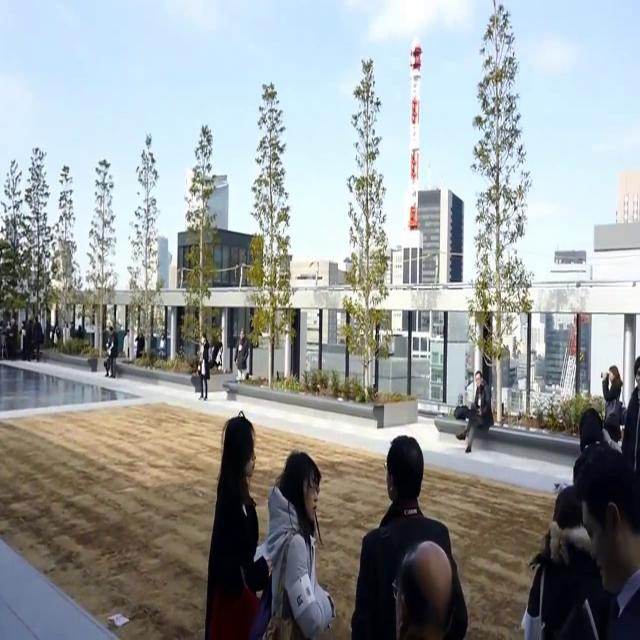body: (348, 429, 470, 639), (518, 481, 617, 639), (205, 412, 273, 639), (262, 445, 338, 639), (572, 440, 640, 639), (391, 539, 457, 638), (572, 406, 624, 489), (455, 369, 495, 455), (621, 354, 640, 534), (600, 364, 624, 430), (44, 319, 84, 356), (196, 331, 212, 404), (233, 327, 249, 382), (106, 324, 118, 378), (33, 314, 44, 364), (8, 314, 18, 362), (212, 333, 224, 367), (134, 328, 146, 359), (0, 320, 10, 357), (26, 317, 34, 363), (104, 335, 112, 378), (18, 319, 26, 361), (159, 332, 167, 370), (122, 329, 130, 358)
